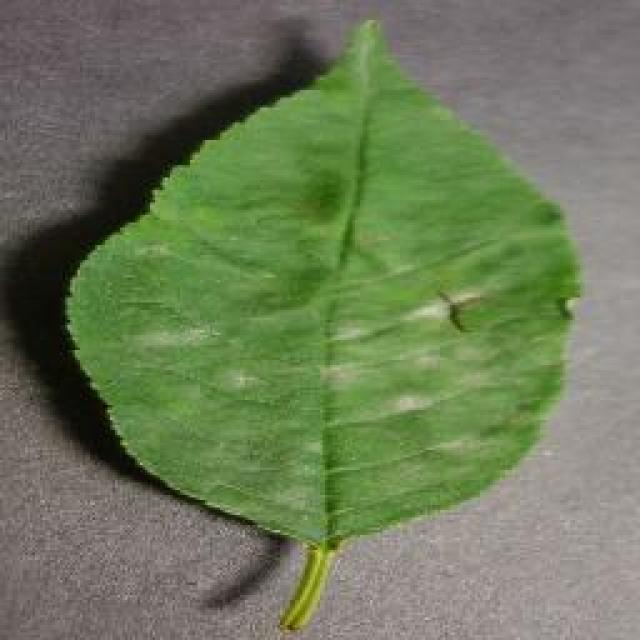Cherry___Powdery_mildew: (93, 144, 564, 504)
